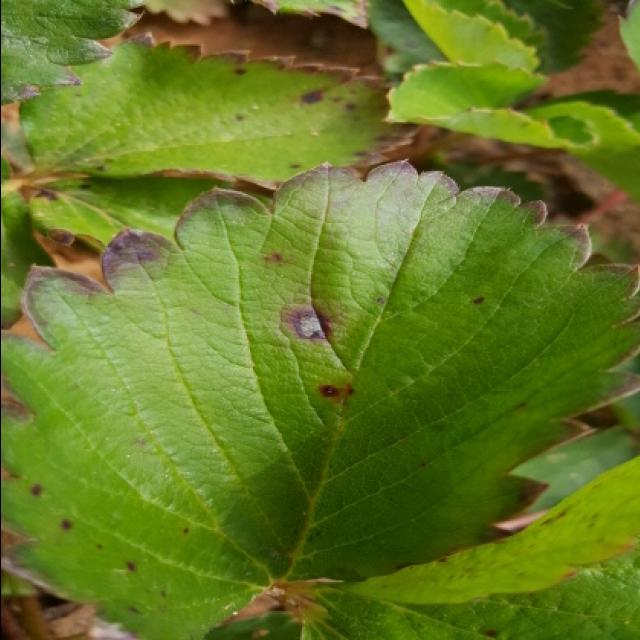Leaf Spot: (2, 157, 640, 638), (16, 30, 431, 200), (303, 457, 640, 638), (2, 0, 150, 107), (28, 172, 216, 256)
